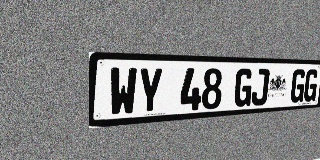4: (180, 68, 203, 111)
8: (201, 68, 223, 110)
G: (233, 69, 254, 107), (289, 69, 306, 103), (303, 69, 319, 102)
J: (251, 69, 270, 106)
W: (109, 67, 137, 117)
Y: (137, 67, 163, 114)
